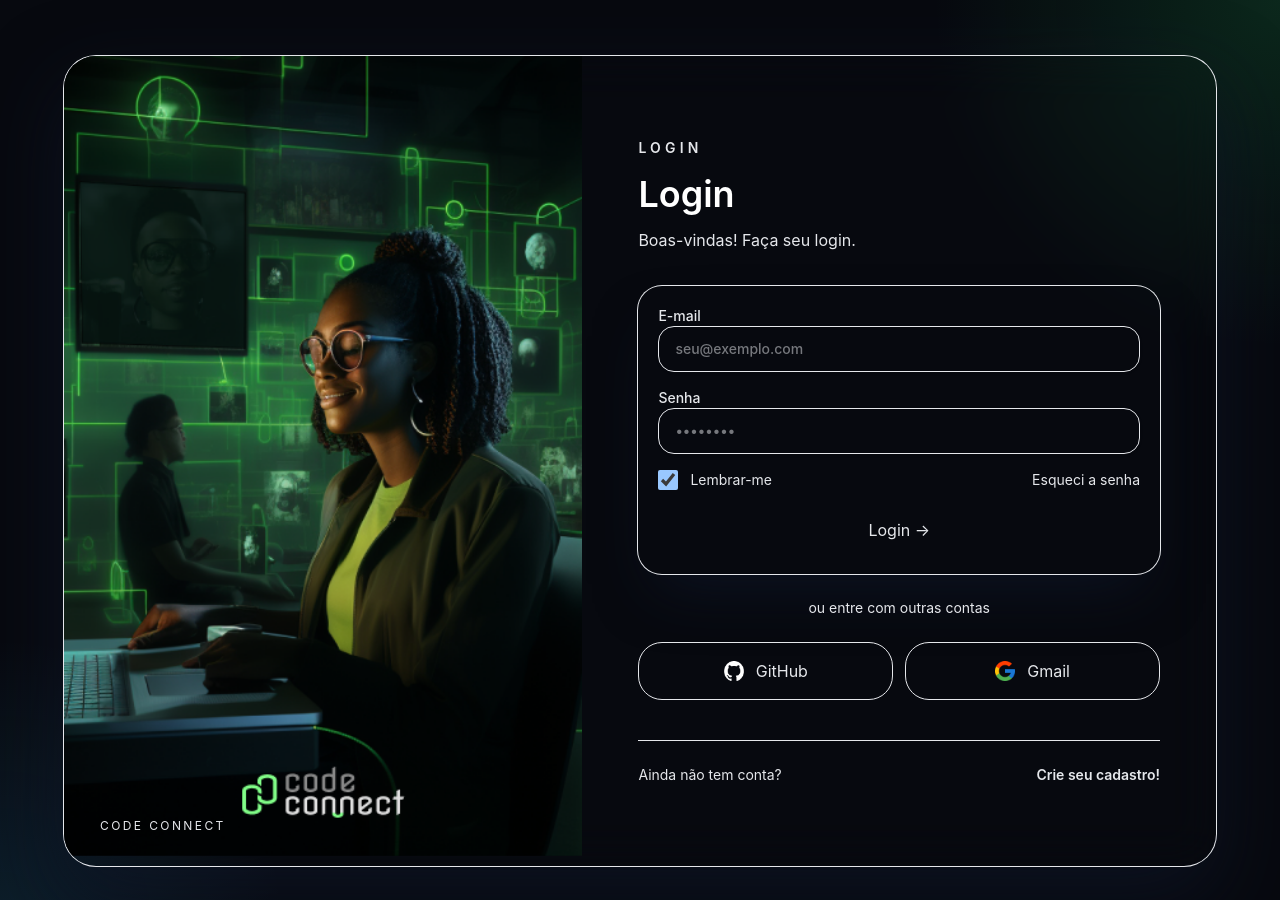
it: LoginPage › shows login errors
Type "ana@example.com" into the field labelled "E-mail" at coordinates (899, 348), box [658,326,1140,372]
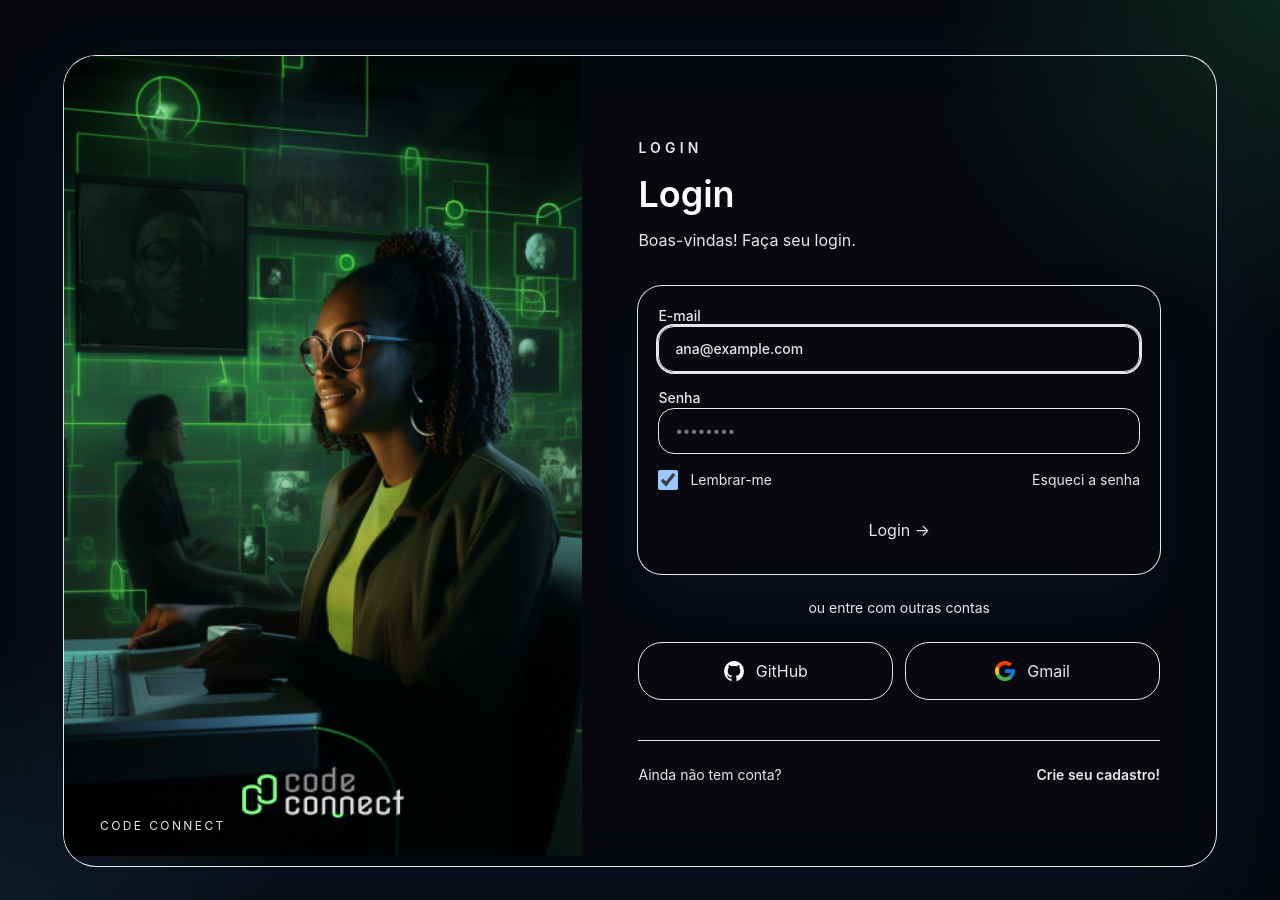
Type "wrongpass" into the password field labelled "Senha" at coordinates (899, 430), box [658,408,1140,454]
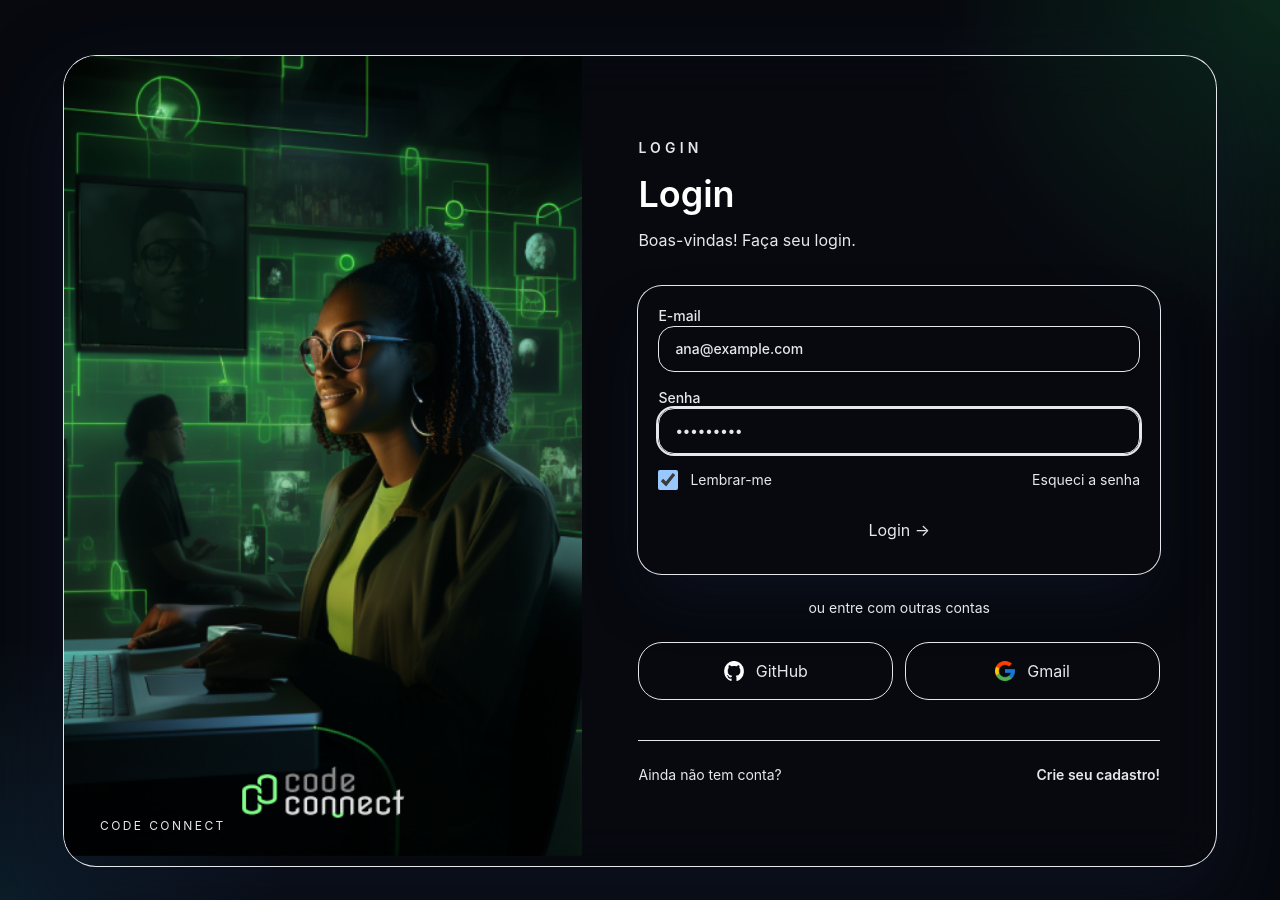
Click the button "Login →" at coordinates (899, 530), box [658,506,1140,554]
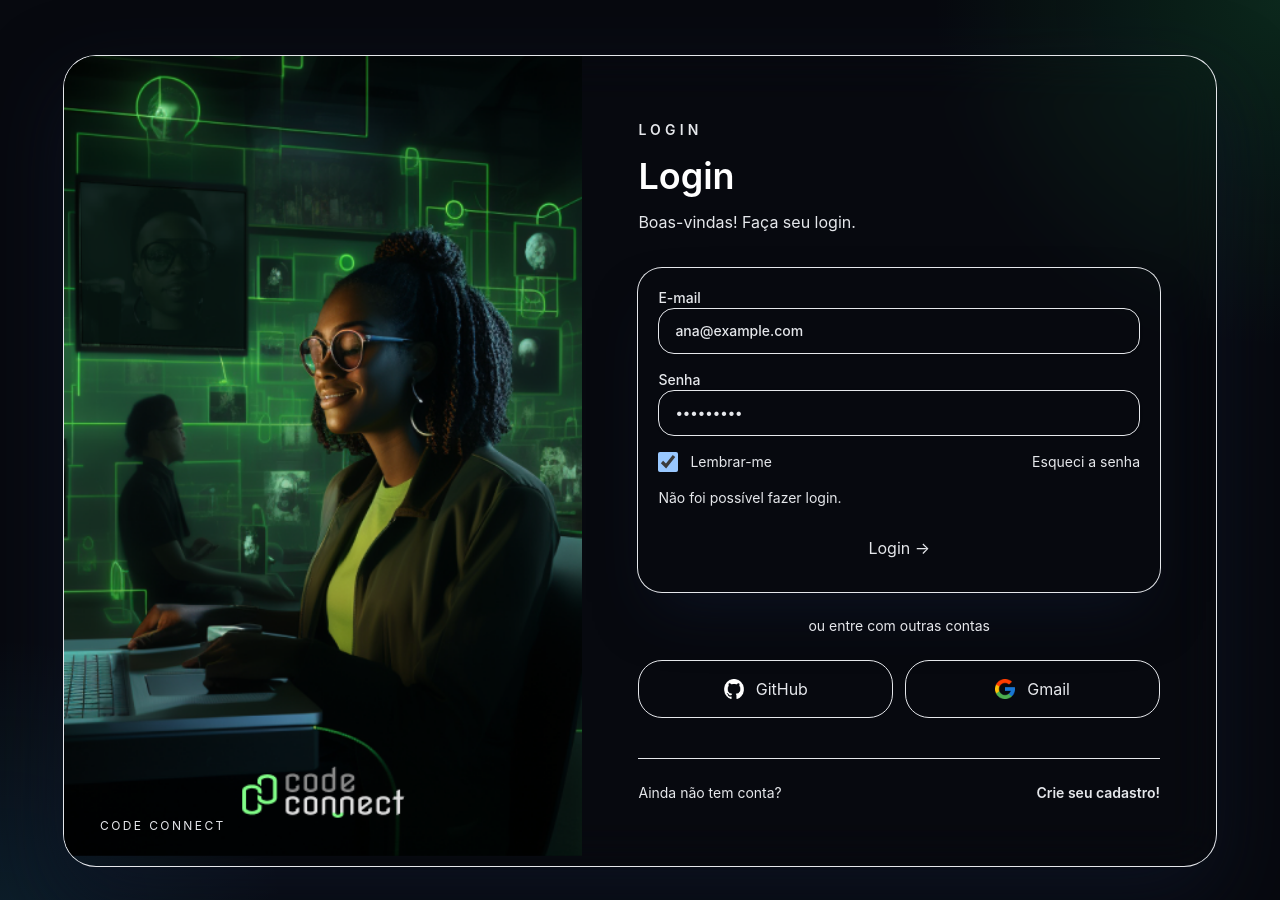
Now the text "Não foi possível fazer login." is shown, box [658,488,842,506]
